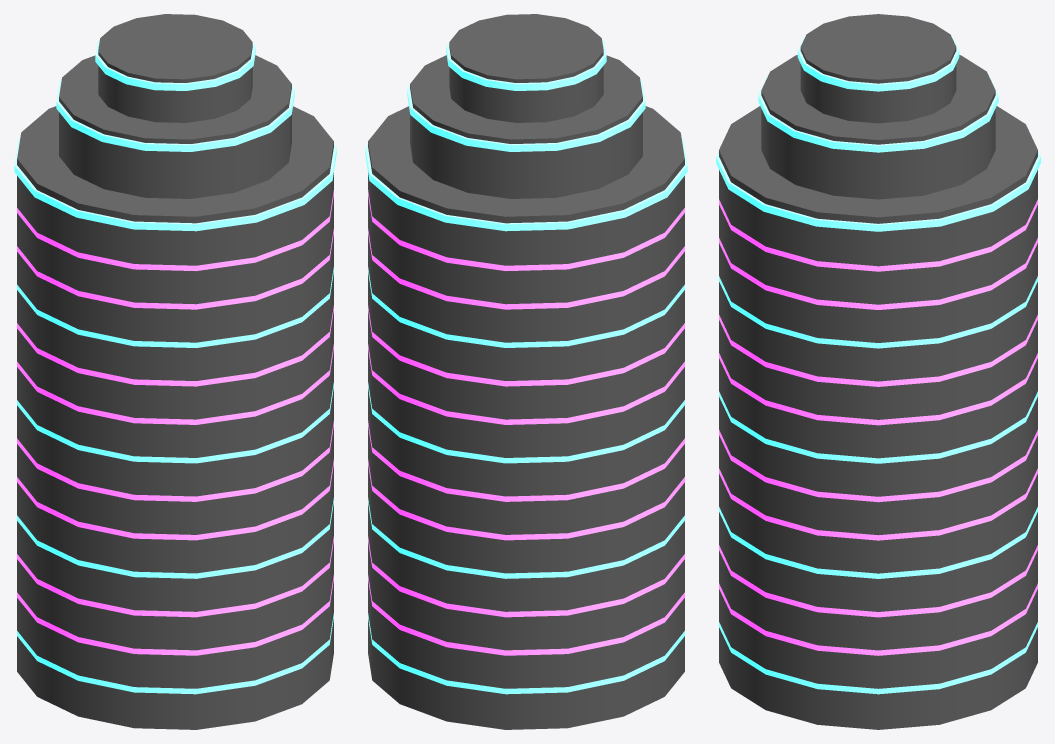
Rendered from mesh_Rooftop_Background_Building_E.fbx.
The picture shows the model from 3 angles, left to right: view 1: azimuth 30°, elevation 25°; view 2: azimuth 150°, elevation 25°; view 3: azimuth 270°, elevation 25°; orthographic projection.
Visible parts, largest first — view 1: mesh_Rooftop_Background_Building_E; view 2: mesh_Rooftop_Background_Building_E; view 3: mesh_Rooftop_Background_Building_E.
Part boxes in pixels (x1=…): mesh_Rooftop_Background_Building_E: x1=14, y1=14, x2=336, y2=729; mesh_Rooftop_Background_Building_E: x1=365, y1=14, x2=687, y2=729; mesh_Rooftop_Background_Building_E: x1=716, y1=14, x2=1040, y2=729.
Size of the model in its own units: 13.6 by 28.45 by 13.6.
